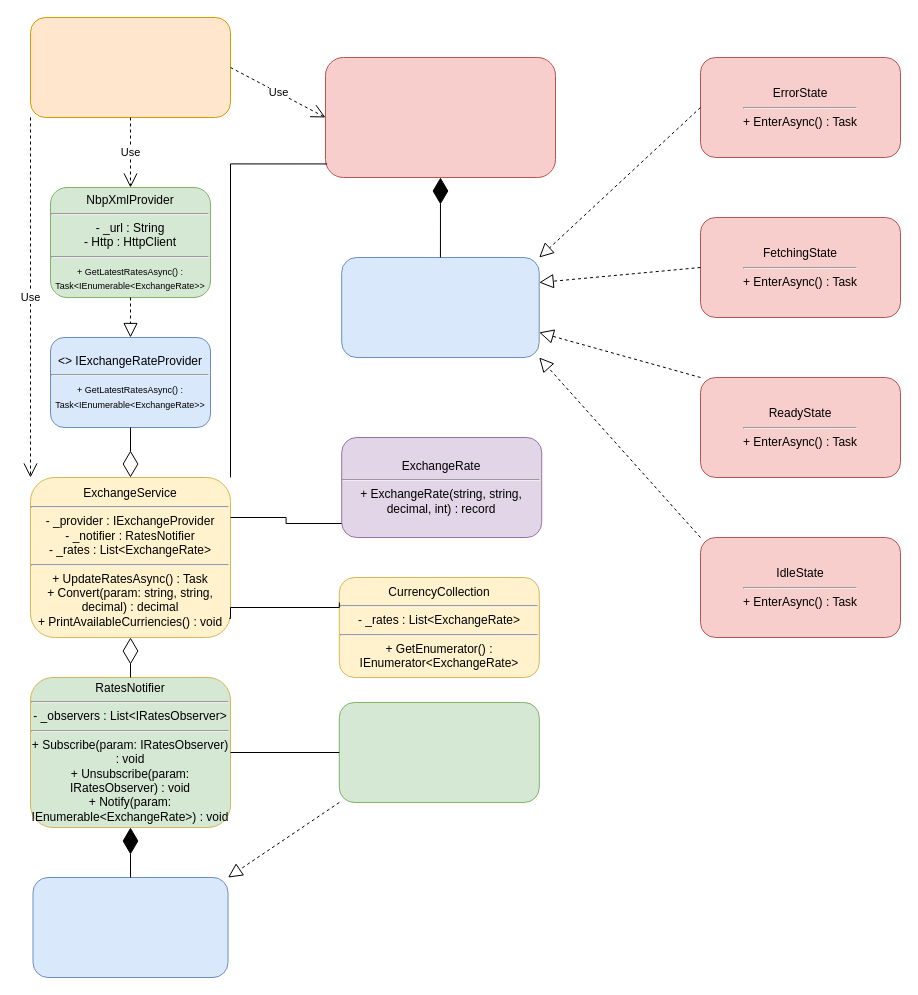
Some shapes in this 918 by 995 pixel diagram are drawn without their labels. The box of each missing label's shape, as (x1, y1, x2, y2) in pixels:
<> IAppState + EnterAsync() : Task: (341, 256, 539, 358)
<> IRatesObserver + OnRatesUpdated(IEnumerable <ExchangeRate>) : void: (32, 876, 228, 978)
AppStateContext - _state : IAppState + SetStateAsync(param: IAppState) : Task: (324, 56, 556, 178)
ConsoleRatesObserver + OnRatesUpdated( IEnumerable<ExchangeRate>) : void: (338, 702, 539, 802)
Program (App): (30, 16, 230, 118)
